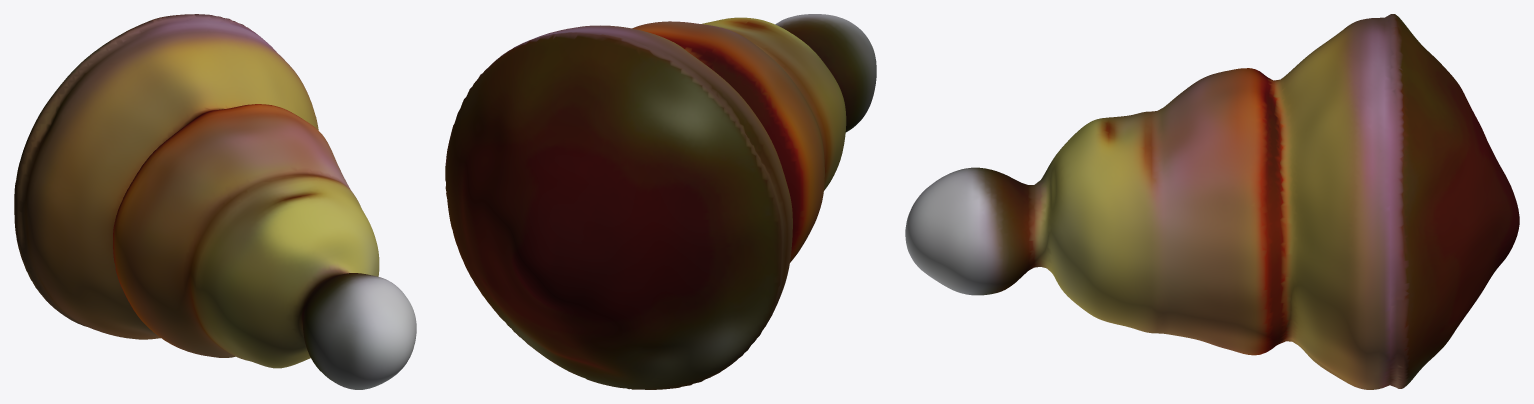
File: chicken.glb
3 views of the same model, side by side, from view 1: azimuth 30°, elevation 25°; view 2: azimuth 150°, elevation 25°; view 3: azimuth 270°, elevation 25° (orthographic). The views are drawn at different scales.
Size of the model in its own units: 0.6102 by 0.6146 by 0.9996.
